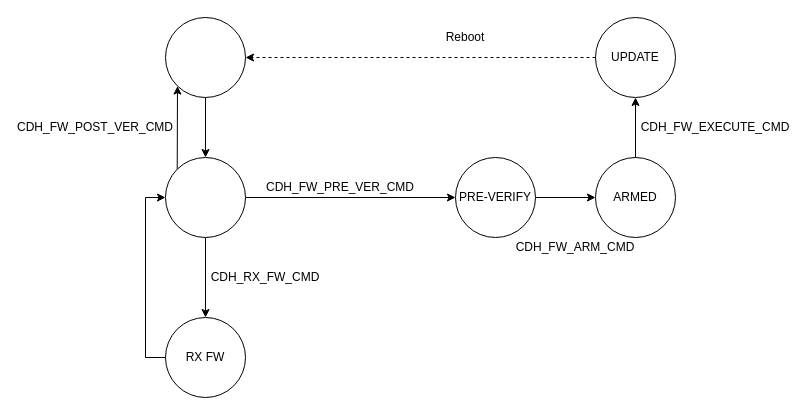
This 807x415 diagram has some shape labels left out. Each missing label, with the centre of its shape:
"IDLE" belongs at [205,197].
"POST-VERIFY" belongs at [205,57].
